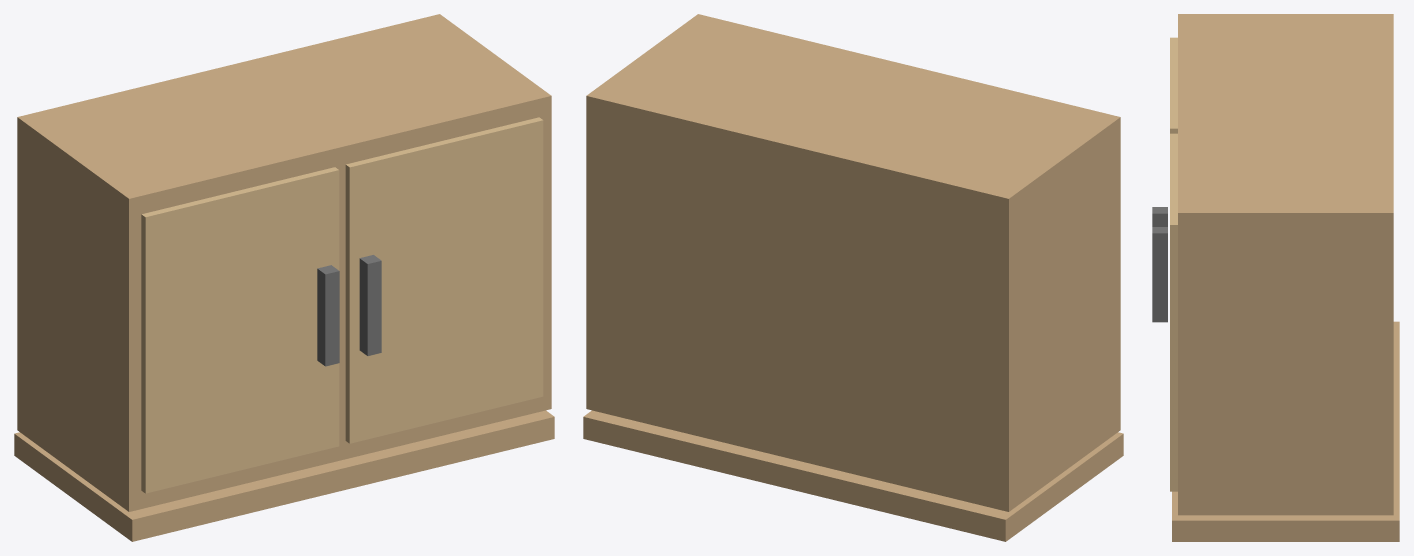
File: armario.glb
The picture shows the model from 3 angles, left to right: view 1: azimuth 30°, elevation 25°; view 2: azimuth 150°, elevation 25°; view 3: azimuth 270°, elevation 25°; orthographic projection. The views are drawn at different scales.
Parts seen in each view (by area): view 1: root; view 2: root; view 3: root.
Boxes of the visible parts, box(x1,y1,x2,y2) form: root: box(14, 14, 554, 541); root: box(583, 14, 1123, 541); root: box(1152, 14, 1399, 541).
Size of the model in its own units: 1.2 by 0.925 by 0.63.
